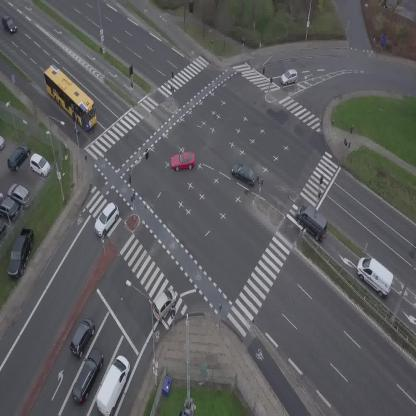bus: (35, 62, 106, 133)
car: (67, 345, 109, 407), (65, 315, 100, 359), (88, 200, 125, 239), (146, 285, 181, 323), (228, 161, 260, 188), (170, 151, 196, 172), (0, 13, 19, 36), (279, 69, 299, 86)
lorry: (91, 353, 136, 416), (350, 252, 401, 300), (289, 199, 336, 245)
